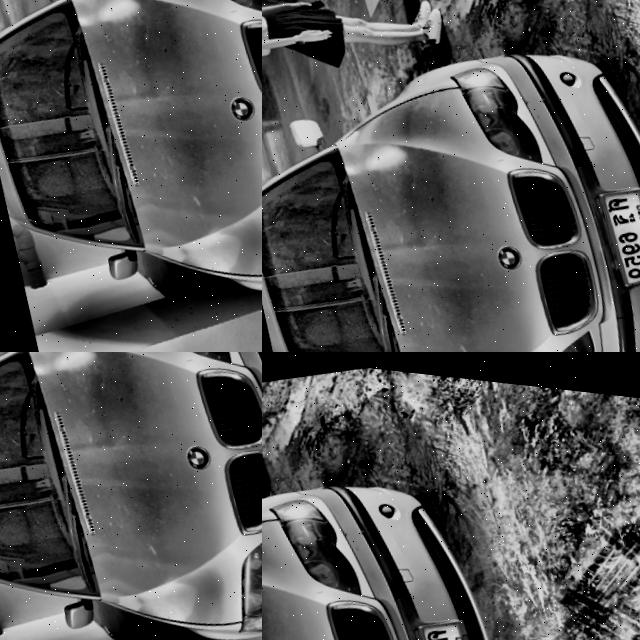license-plate: (413, 600, 497, 640)
